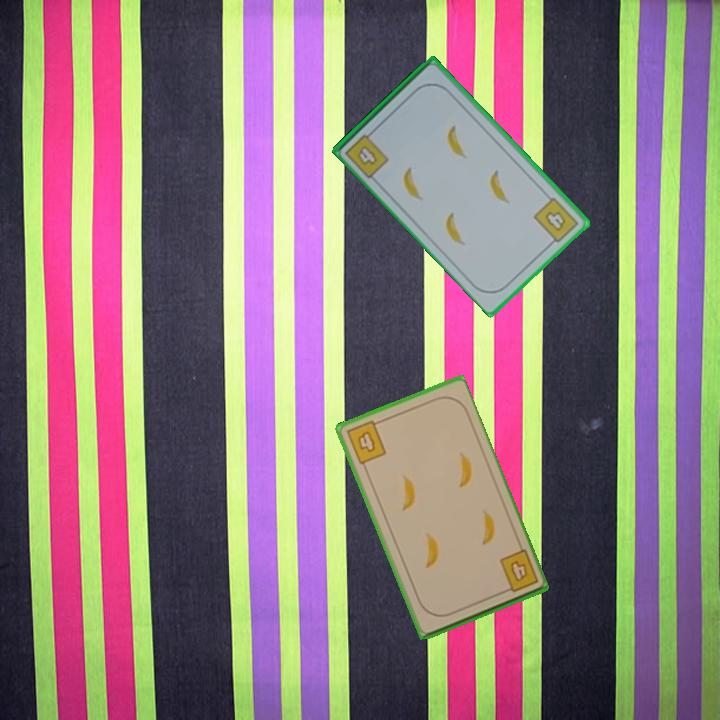4b: (530, 194, 582, 249), (341, 126, 392, 181), (342, 416, 389, 467), (496, 546, 541, 596)
